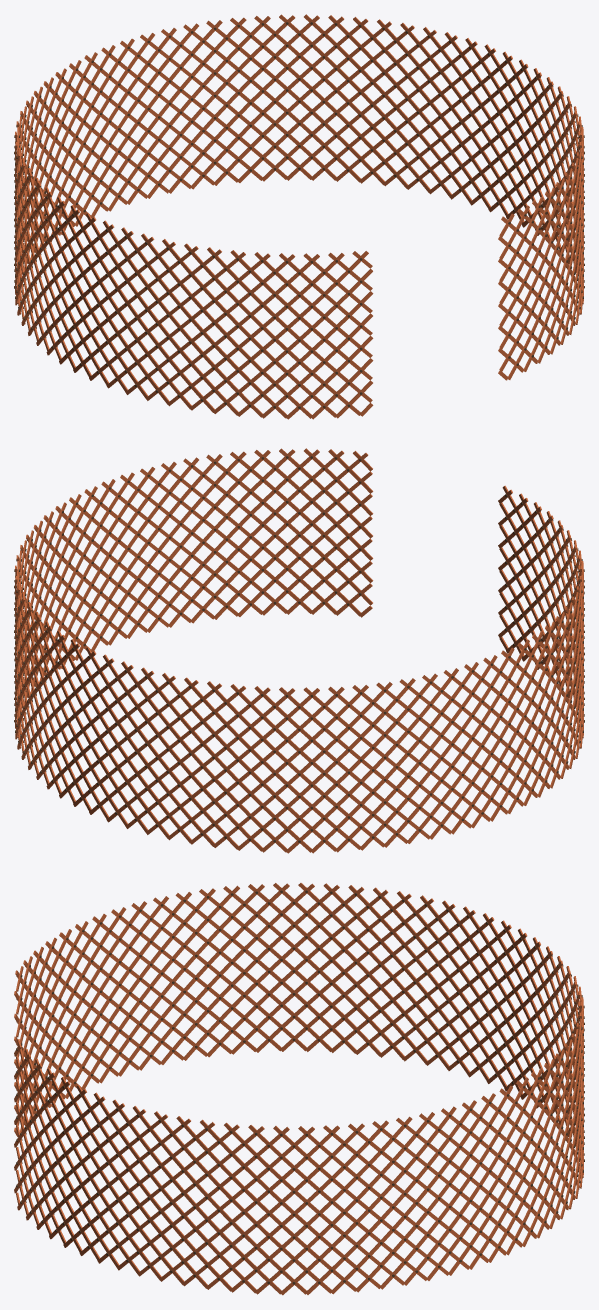
File: khana.glb
The picture shows the model from 3 angles, top to bottom: view 1: azimuth 30°, elevation 25°; view 2: azimuth 150°, elevation 25°; view 3: azimuth 270°, elevation 25°; orthographic projection.
Parts seen in each view (by area): view 1: Khana; view 2: Khana; view 3: Khana.
Part boxes in pixels (x1,y1,x2,y2): Khana: (14,14,584,419); Khana: (14,448,584,853); Khana: (14,883,584,1295).
Bounding box in the file's own units: 6.26 × 2 × 6.14.
